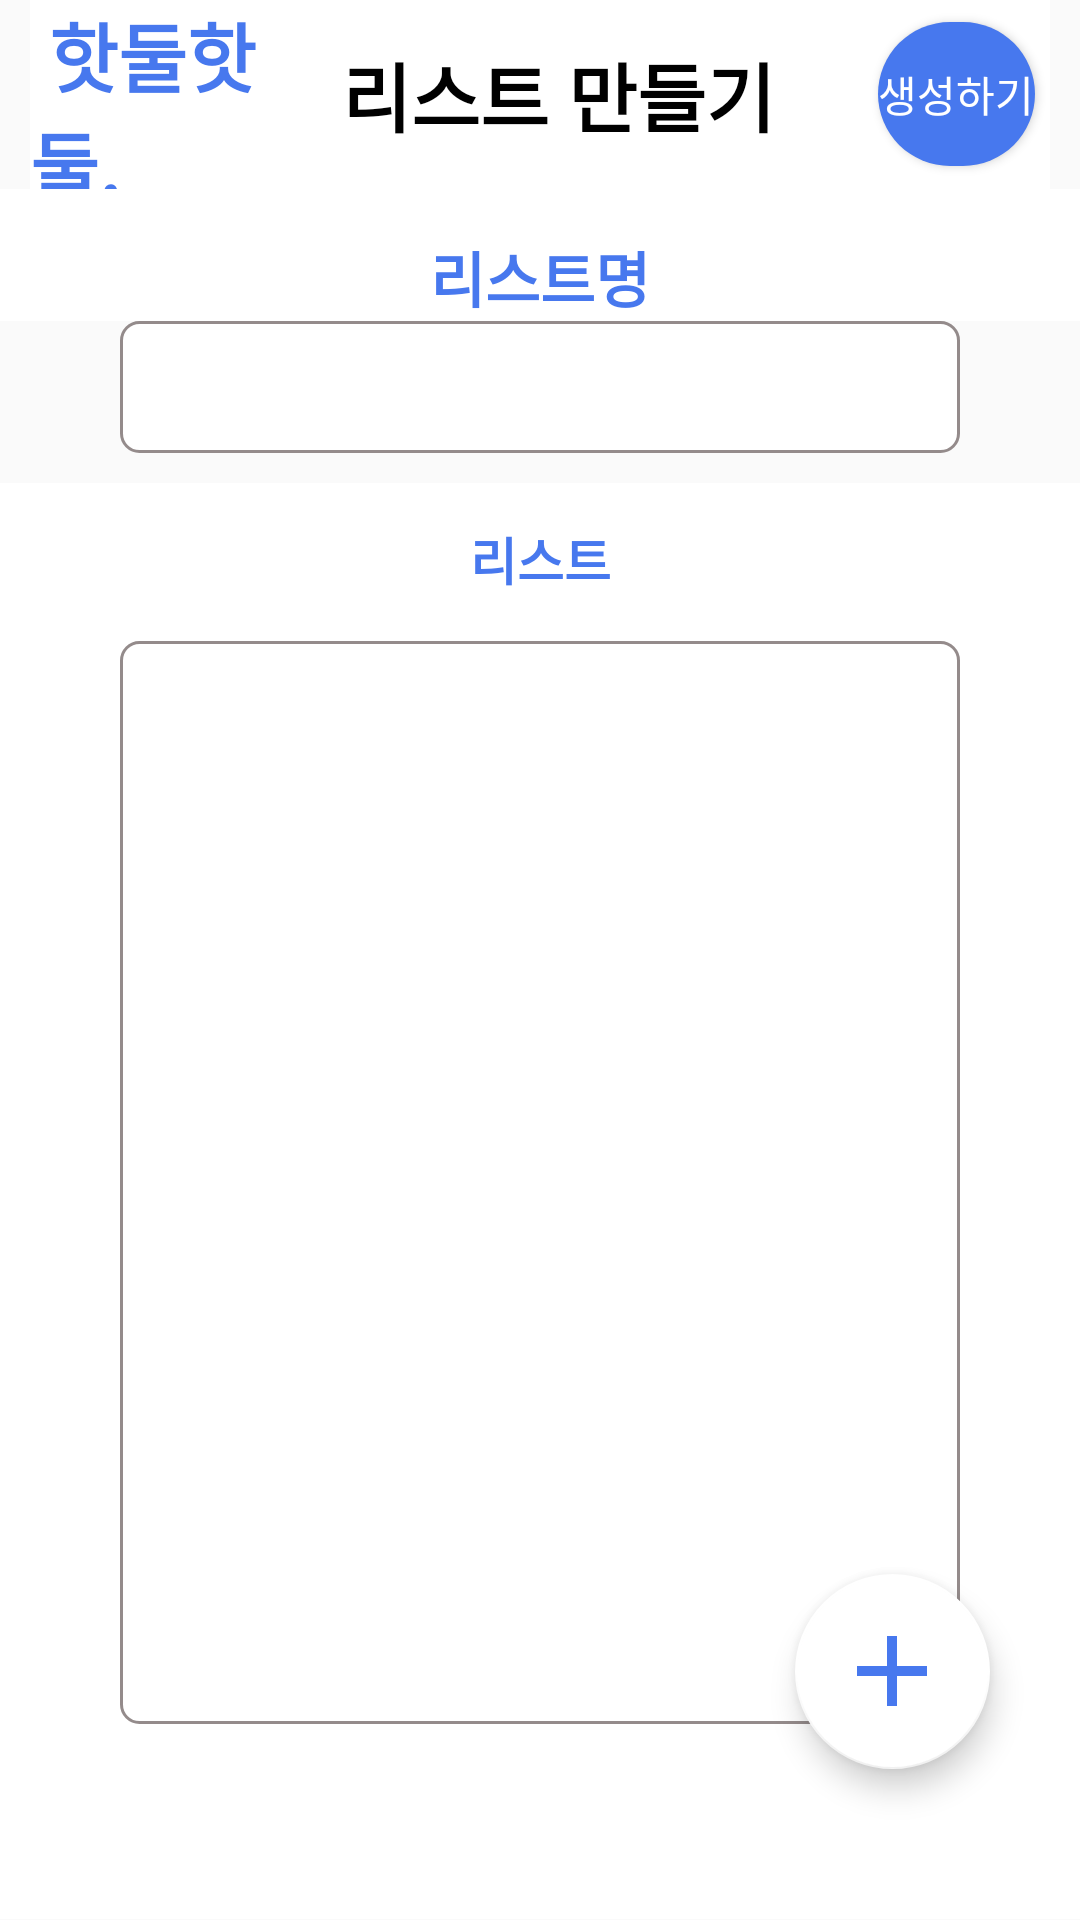

Icons on this 1080px x 1920px Android screen, each with the point to tap as (x=x, y=y):
add: (x=892, y=1671)
